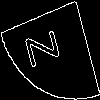Z: (24, 24, 67, 68)
